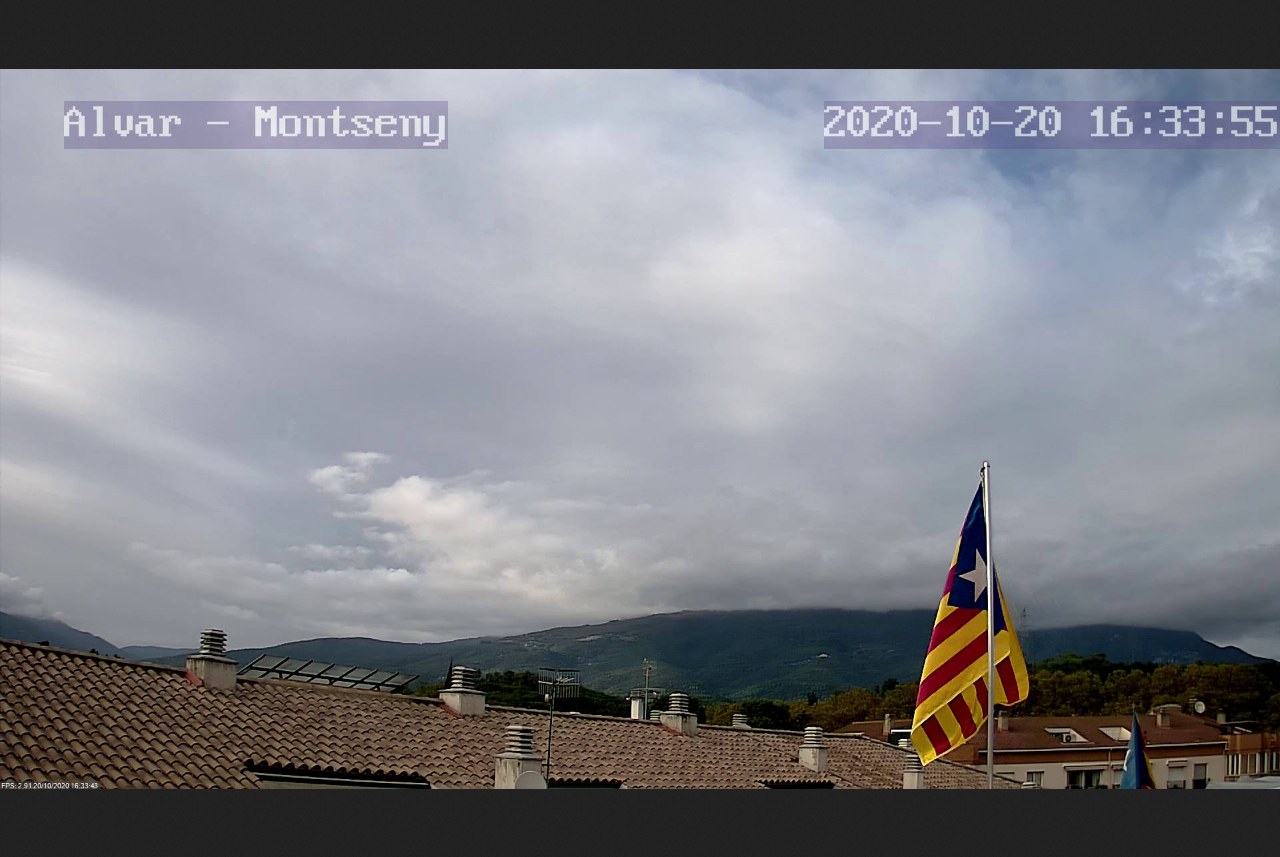no: (899, 415, 1038, 762)
